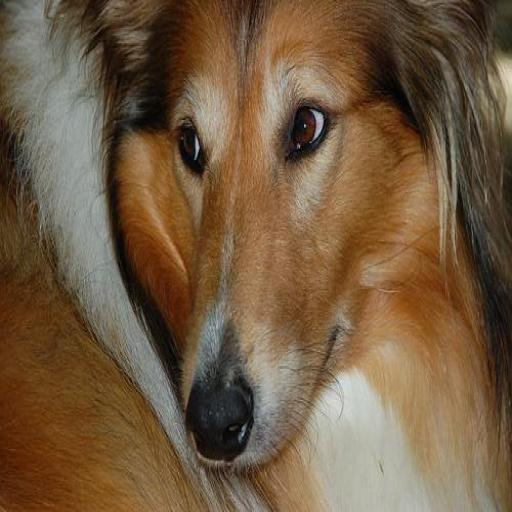dog_face: (93, 2, 465, 472)
